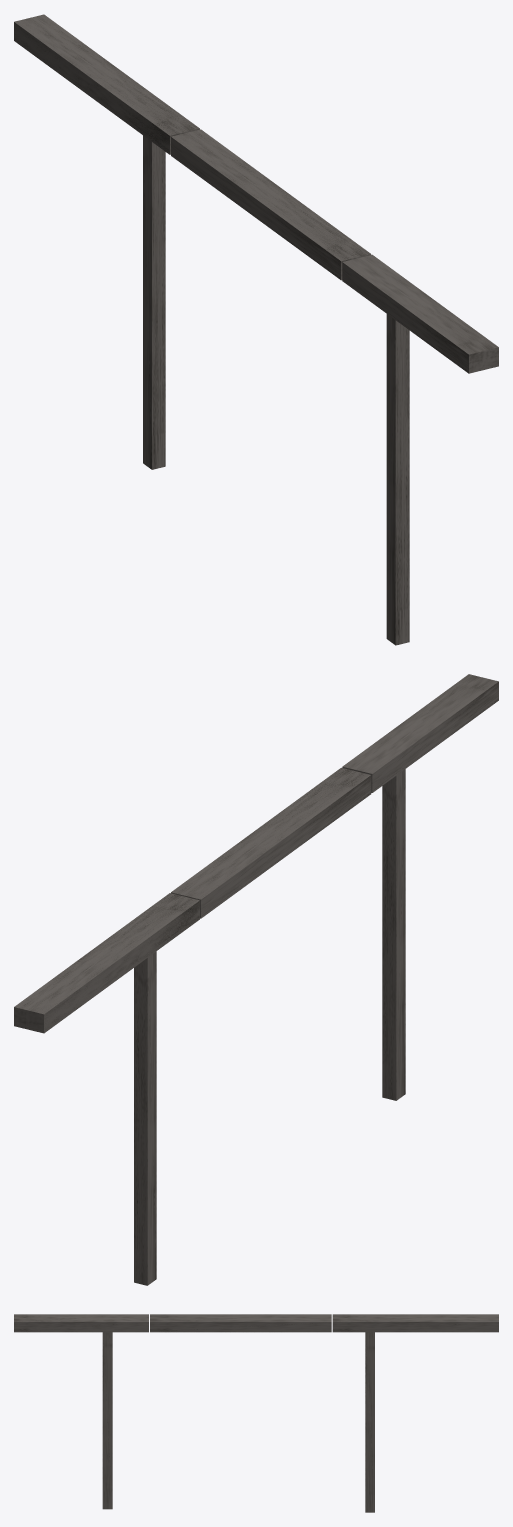
The model's file is SM_cemframeresfrnt.fbx.
3 views of the same model, one above another, from view 1: azimuth 30°, elevation 25°; view 2: azimuth 150°, elevation 25°; view 3: azimuth 270°, elevation 25° (orthographic). The views are drawn at different scales.
Visible parts, largest first — view 1: SM_supR; view 2: SM_supR; view 3: SM_supR.
Part boxes in pixels (bbox=[...]): SM_supR: bbox=[14, 14, 498, 645]; SM_supR: bbox=[14, 674, 498, 1285]; SM_supR: bbox=[14, 1314, 498, 1512].
Size of the model in its own units: 27.53 by 314 by 719.
